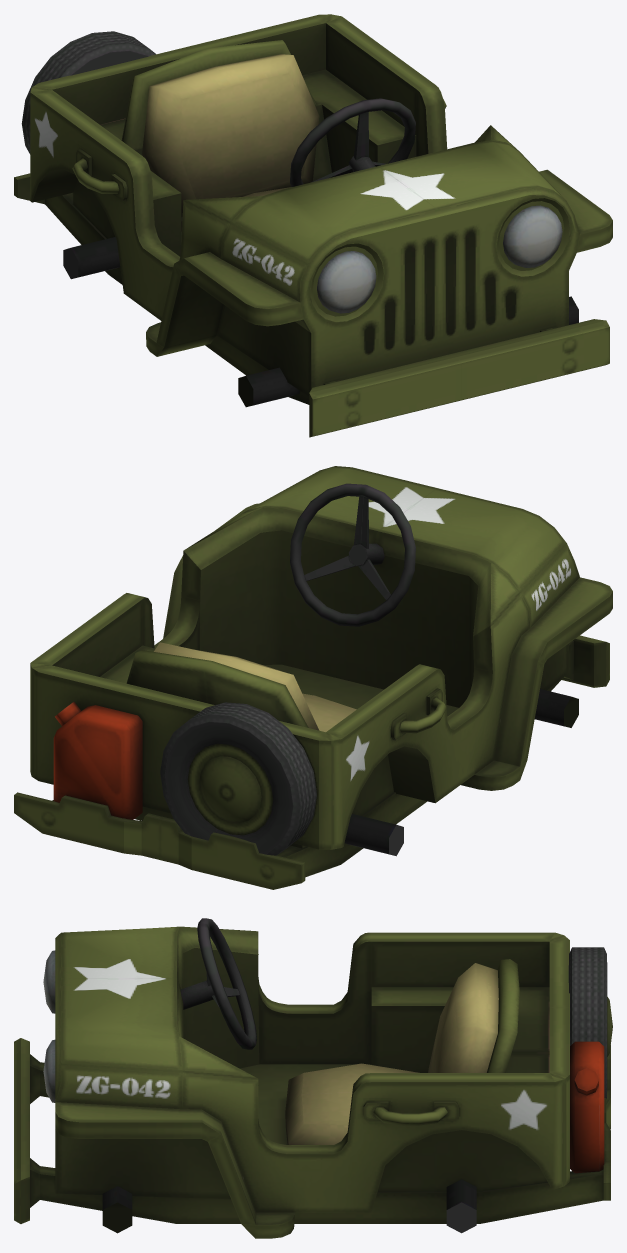
Rendered from willy.obj.
3 renders of one model, top to bottom at view 1: azimuth 30°, elevation 25°; view 2: azimuth 150°, elevation 25°; view 3: azimuth 270°, elevation 25°, orthographic.
Visible parts, largest first — view 1: mesh_0; view 2: mesh_0; view 3: mesh_0.
Part boxes in pixels (box(x1,y1,x2,y2)): mesh_0: box(14, 14, 612, 437); mesh_0: box(14, 466, 612, 889); mesh_0: box(14, 918, 612, 1238).
Bounding box in the file's own units: 0.6978 × 0.4544 × 1.01.
1 material, 1 textured.
